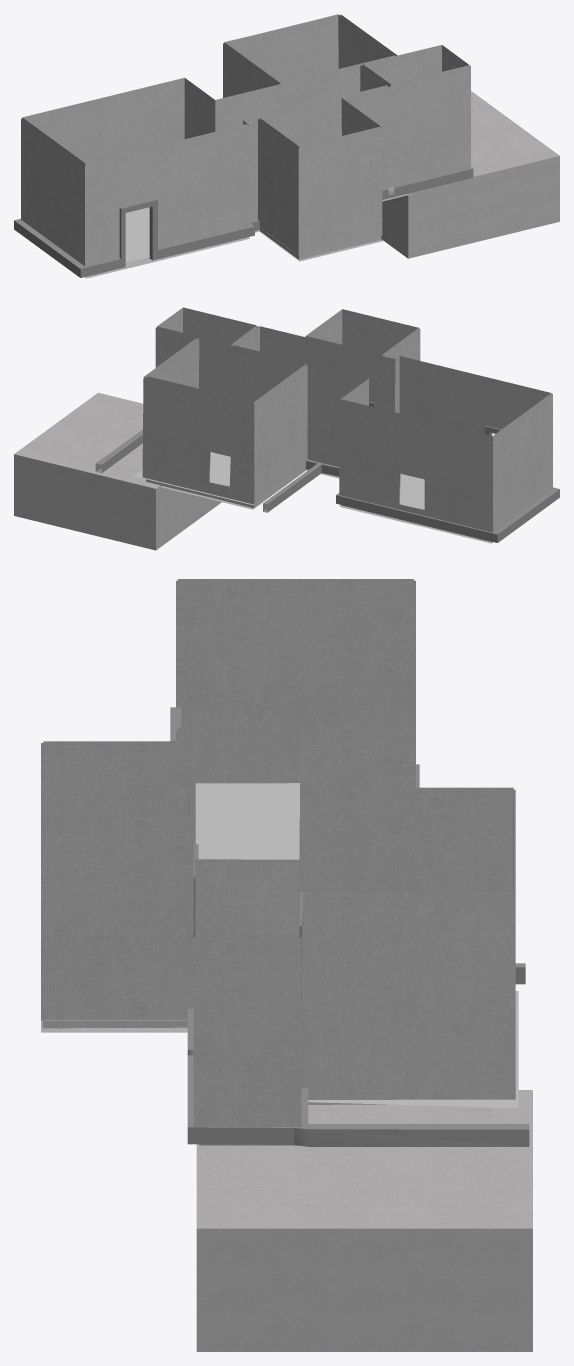
The model's file is Layout5 (1).fbx.
3 views of the same model, one above another, from view 1: azimuth 30°, elevation 25°; view 2: azimuth 150°, elevation 25°; view 3: azimuth 270°, elevation 25° (orthographic). The views are drawn at different scales.
Parts seen in each view (by area): view 1: Plane007, Plane008, Box016, Object010; view 2: Plane007, Plane008, Box016, Object010; view 3: Plane007, Plane008, Object010, Box016.
Part boxes in pixels (bbox=[...]): Plane007: bbox=[21, 14, 470, 278]; Plane008: bbox=[381, 91, 559, 258]; Box016: bbox=[14, 167, 473, 277]; Object010: bbox=[125, 207, 292, 262]; Plane007: bbox=[142, 307, 552, 543]; Plane008: bbox=[14, 392, 221, 550]; Box016: bbox=[95, 401, 559, 542]; Object010: bbox=[133, 452, 424, 509]; Plane007: bbox=[41, 579, 515, 1126]; Plane008: bbox=[196, 1090, 532, 1351]; Object010: bbox=[44, 783, 518, 1108]; Box016: bbox=[170, 707, 529, 1146].
Bounding box in the file's own units: 1513 × 532 × 708.
